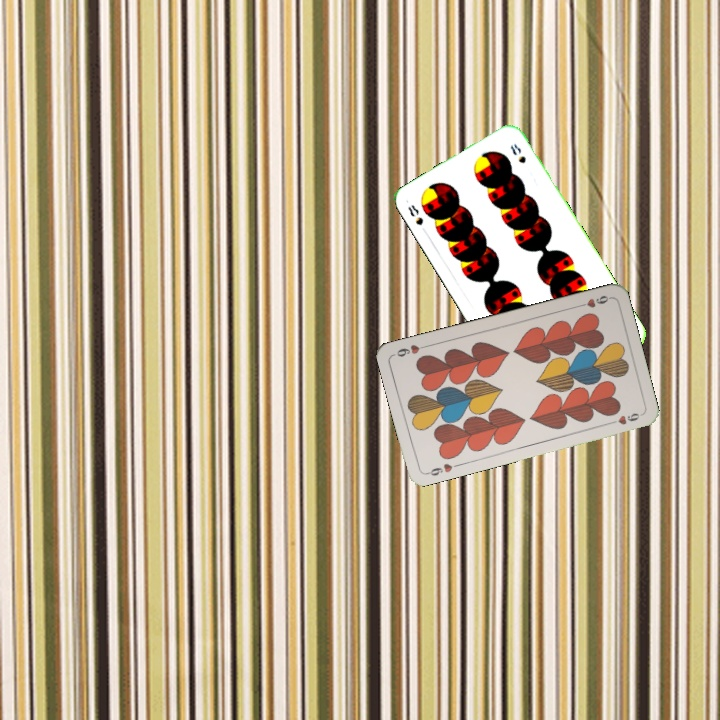H9: (573, 291, 613, 310), (422, 459, 462, 478)
S8: (404, 200, 430, 237)
